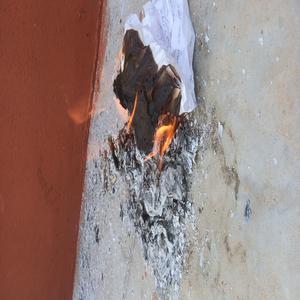fire: (58, 81, 110, 122), (148, 116, 174, 163)
